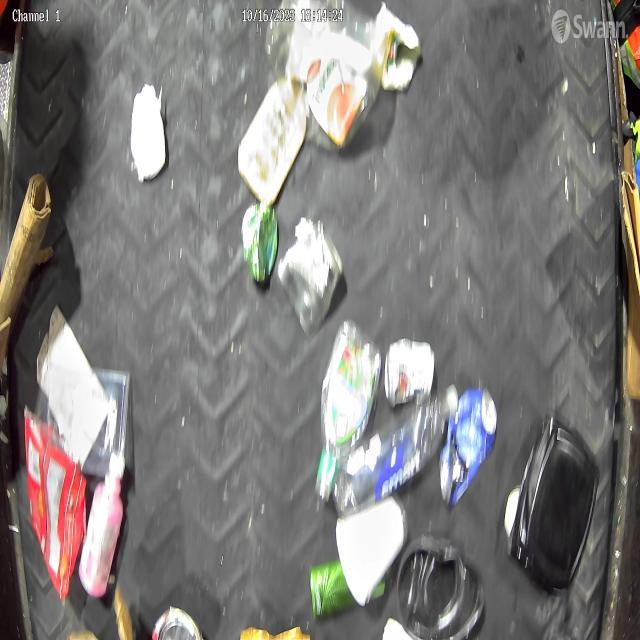can: (278, 220, 344, 337), (439, 392, 498, 508), (386, 340, 436, 408)
plastic_bottle: (334, 386, 459, 514)
